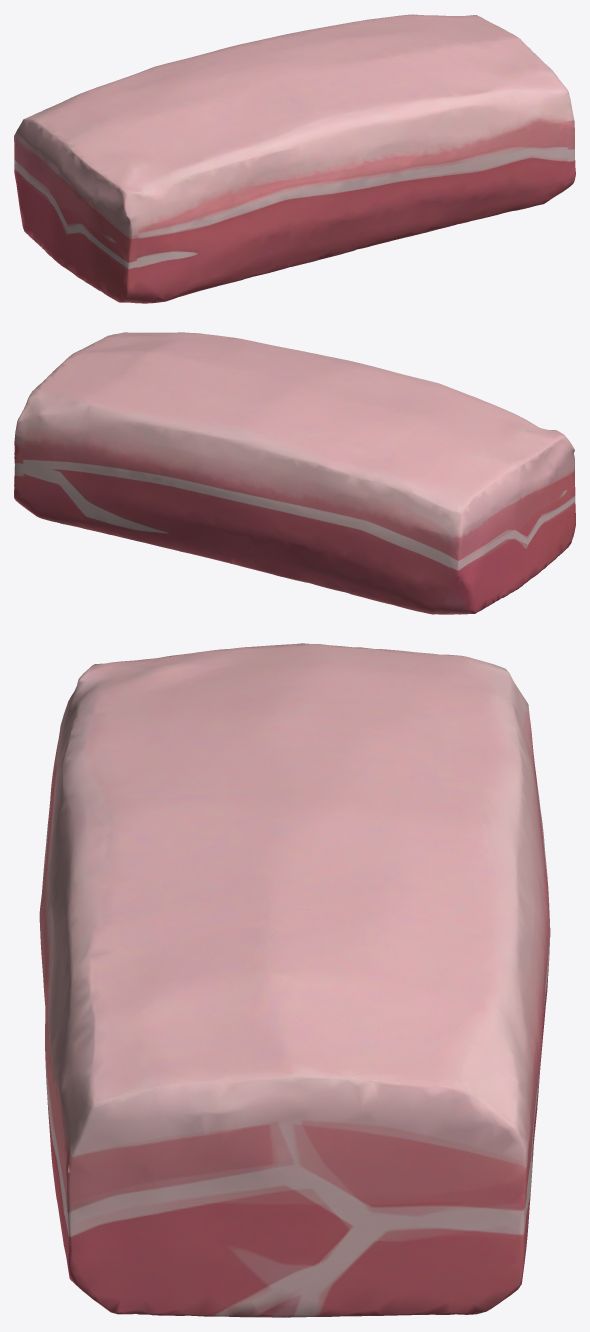
File: Meshy_AI_Low_Poly_Meat_0422110558_texture.fbx
3 renders of one model, top to bottom at view 1: azimuth 30°, elevation 25°; view 2: azimuth 150°, elevation 25°; view 3: azimuth 270°, elevation 25°, orthographic. The views are drawn at different scales.
Parts seen in each view (by area): view 1: Mesh_0; view 2: Mesh_0; view 3: Mesh_0.
Part boxes in pixels (x1,y1,x2,y2): Mesh_0: [14, 14, 575, 303]; Mesh_0: [14, 332, 575, 614]; Mesh_0: [39, 643, 550, 1317].
Size of the model in its own units: 200 by 60.11 by 96.14.
1 material, 1 textured.
